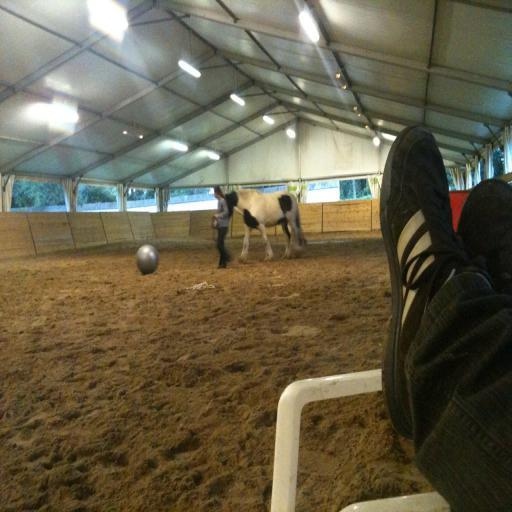horse: (222, 190, 307, 264)
